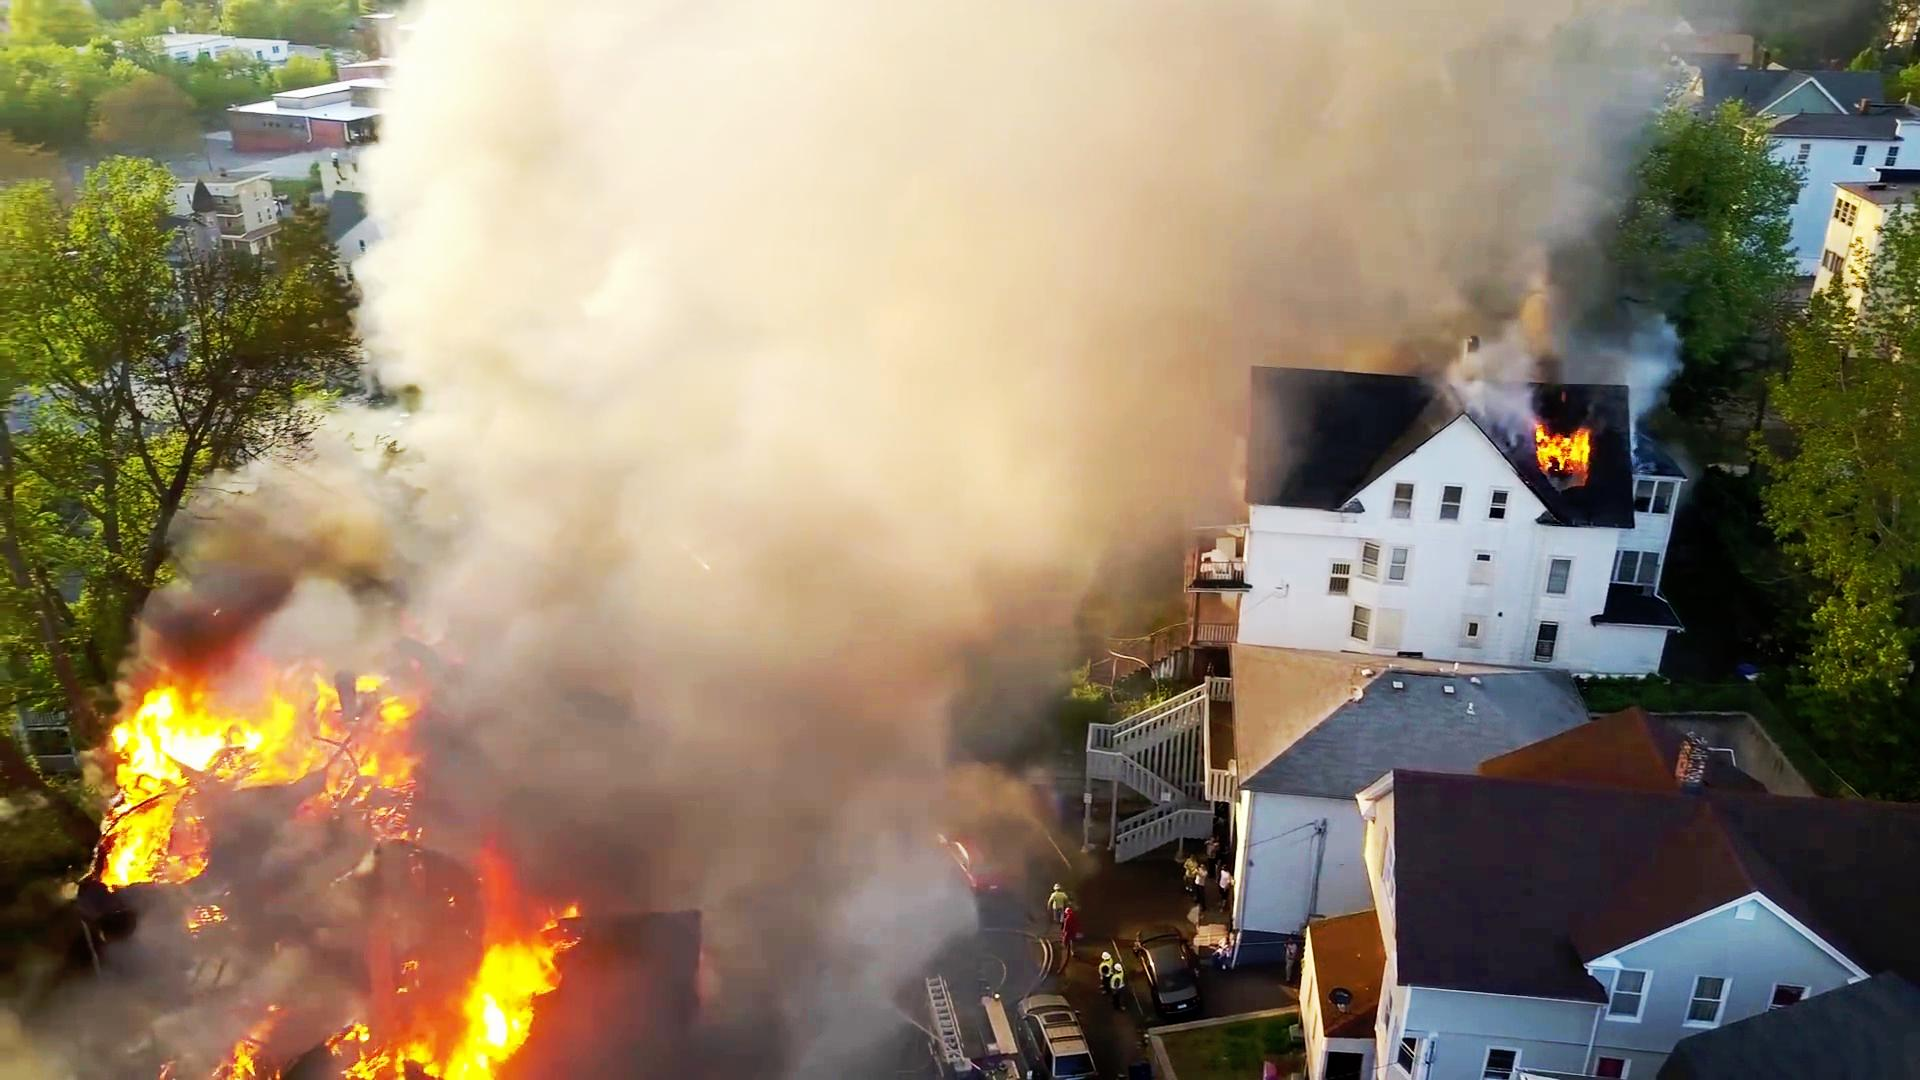fire: (115, 694, 418, 864), (433, 851, 597, 1068), (1511, 415, 1604, 484)
smoke: (413, 0, 998, 773)
